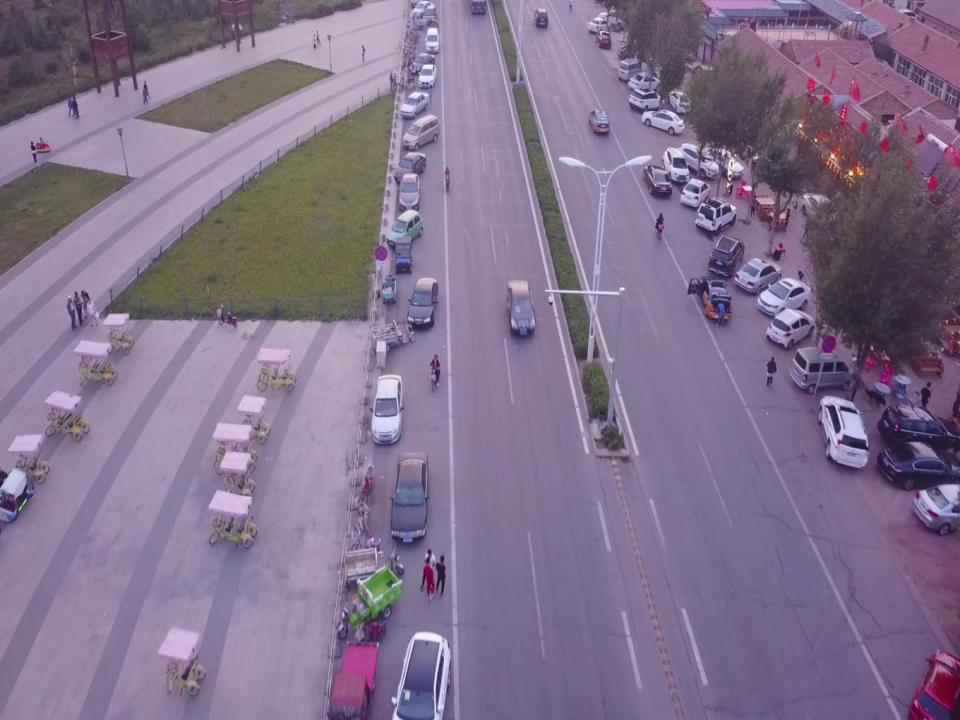car: (392, 628, 452, 720), (874, 440, 960, 488), (876, 403, 960, 452), (903, 646, 960, 715), (818, 393, 869, 469), (391, 451, 428, 542), (371, 374, 404, 445), (914, 484, 960, 532), (506, 280, 536, 338), (384, 208, 424, 249), (695, 196, 736, 236), (408, 277, 439, 329), (800, 190, 838, 227), (680, 143, 720, 178), (642, 106, 686, 137), (705, 144, 746, 176), (401, 116, 439, 150), (394, 150, 428, 180), (662, 146, 688, 184), (642, 164, 672, 196), (629, 87, 666, 111), (681, 177, 710, 206), (400, 93, 430, 118), (400, 173, 420, 210), (395, 237, 414, 274), (666, 89, 694, 114), (587, 106, 610, 134), (628, 72, 662, 90), (618, 57, 643, 79), (598, 10, 625, 30), (416, 62, 436, 88), (410, 54, 435, 74), (588, 16, 610, 32), (596, 29, 612, 50), (412, 3, 434, 18), (426, 26, 437, 54), (533, 8, 547, 28), (422, 4, 438, 21)
truck: (329, 639, 378, 720)
van: (791, 344, 854, 390), (757, 277, 811, 316), (766, 307, 816, 349), (695, 274, 732, 325), (734, 259, 783, 291), (708, 236, 744, 277)
